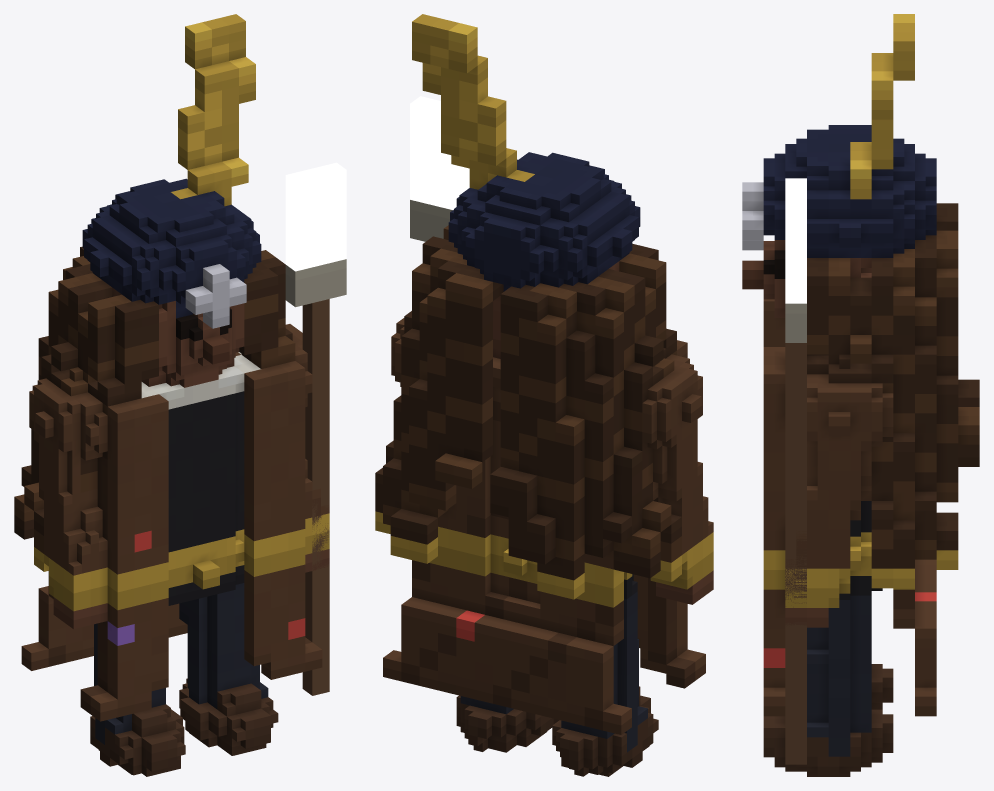
Rendered from u_tidiane__trappeur.glb.
The picture shows the model from 3 angles, left to right: view 1: azimuth 30°, elevation 25°; view 2: azimuth 150°, elevation 25°; view 3: azimuth 270°, elevation 25°; orthographic projection. The views are drawn at different scales.
Parts seen in each view (by area): view 1: tidiane_body, tidiane_weapon, tidiane_weaponglow; view 2: tidiane_body, tidiane_weaponglow, tidiane_weapon; view 3: tidiane_body, tidiane_weapon, tidiane_weaponglow.
Part boxes in pixels (<box>): tidiane_body: <box>14,14,329,776</box>; tidiane_weapon: <box>285,259,346,695</box>; tidiane_weaponglow: <box>285,162,346,271</box>; tidiane_body: <box>375,14,713,776</box>; tidiane_weaponglow: <box>410,96,469,209</box>; tidiane_weapon: <box>410,200,452,241</box>; tidiane_body: <box>742,14,979,776</box>; tidiane_weapon: <box>785,303,806,764</box>; tidiane_weaponglow: <box>785,178,806,303</box>.
Bounding box in the file's own units: 0.825 × 1.93 × 0.55.
